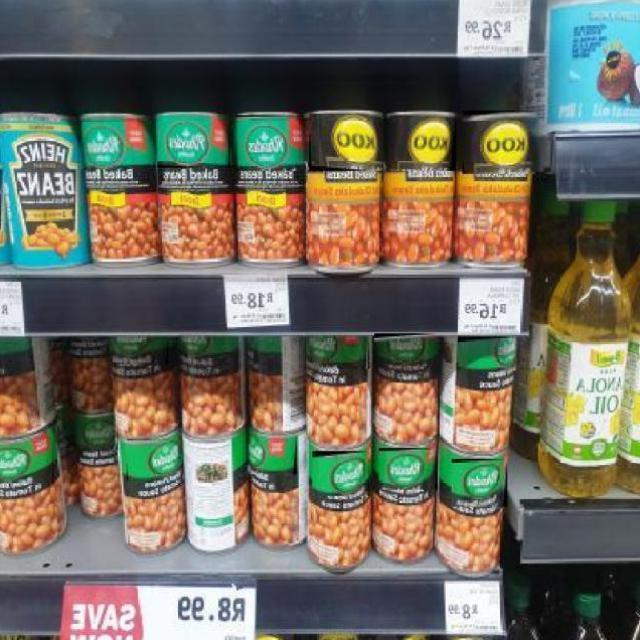Beans: (461, 111, 538, 176), (307, 115, 383, 174), (387, 114, 457, 173), (156, 116, 230, 170), (233, 116, 303, 173), (78, 120, 154, 171), (450, 459, 507, 508), (310, 452, 369, 498), (377, 448, 438, 491), (178, 333, 239, 375), (0, 437, 53, 485), (125, 439, 181, 482), (304, 334, 369, 370), (456, 336, 518, 372), (373, 333, 438, 367), (246, 434, 297, 475), (111, 337, 168, 366), (77, 419, 119, 451)
